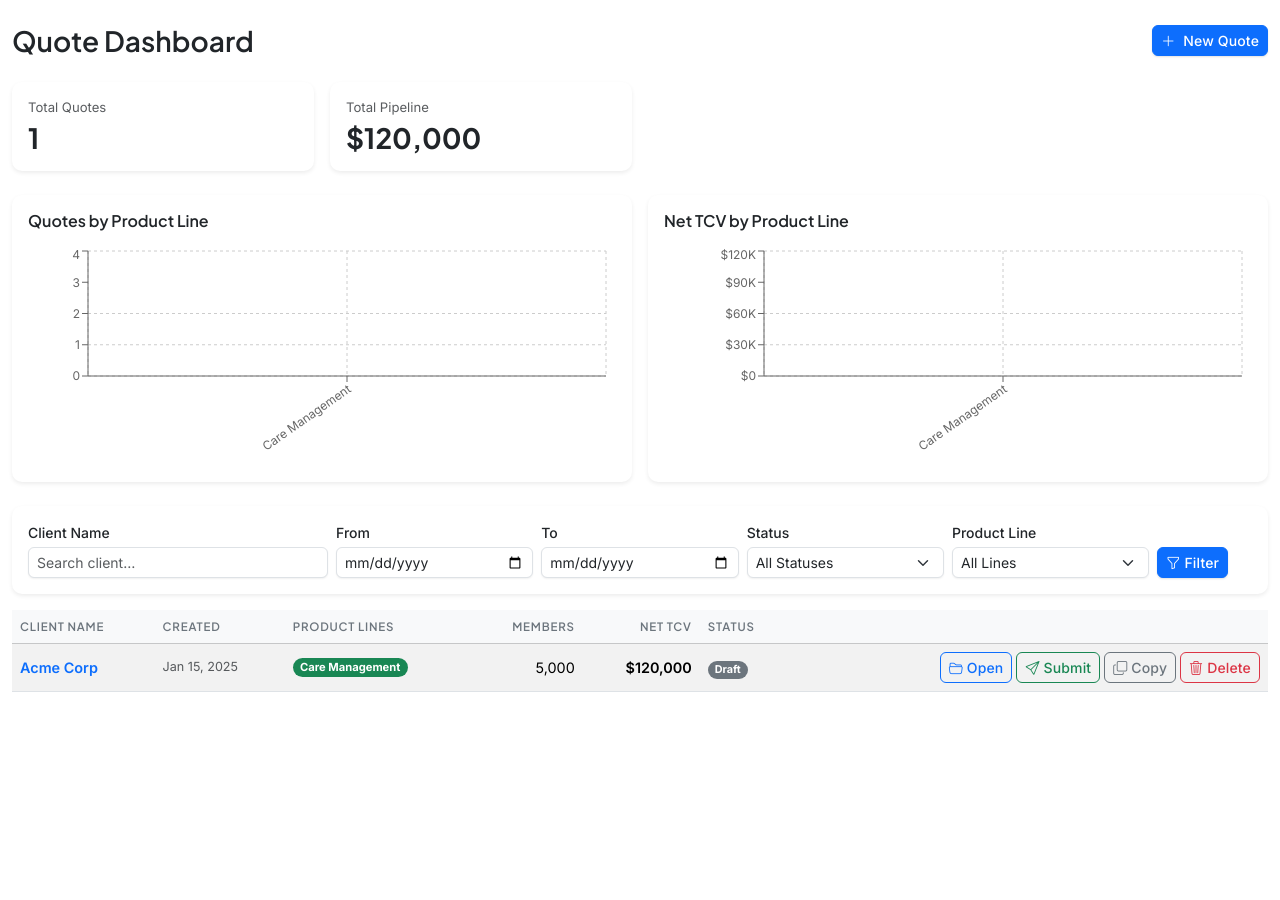
Test: QuoteDashboard — quote actions › Delete button opens the confirmation modal
What coordinates should you click on to do the following:
click the button with aria-label "delete quote for acme corp"
I would click on:
 (1220, 668)
Its box is [1180,652,1260,683].
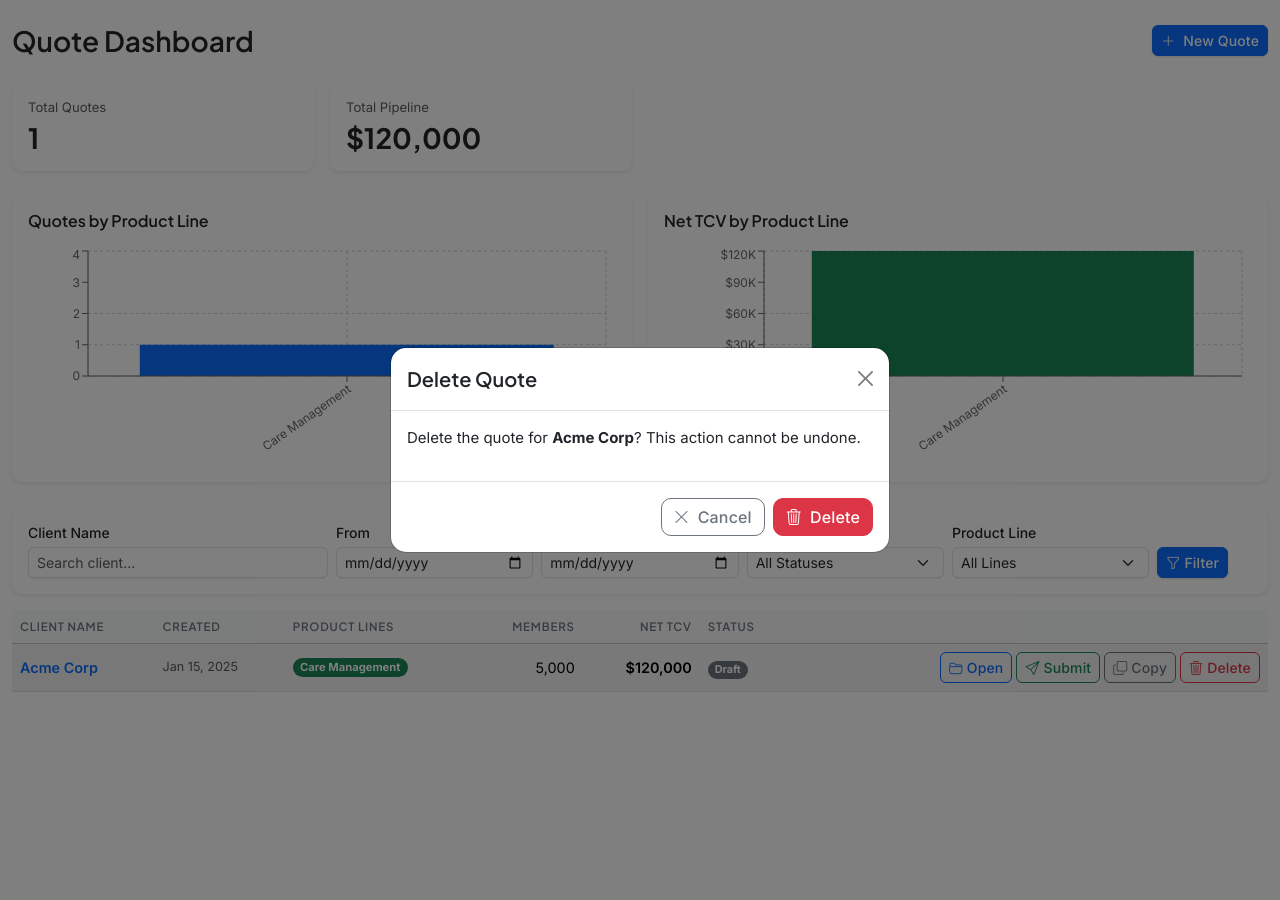
Now the dialog "Delete Quote" is shown
Now the text "Delete the quote for" is shown, box [407,428,548,447]
Now the text "Acme Corp" is shown, box [552,428,634,447]
